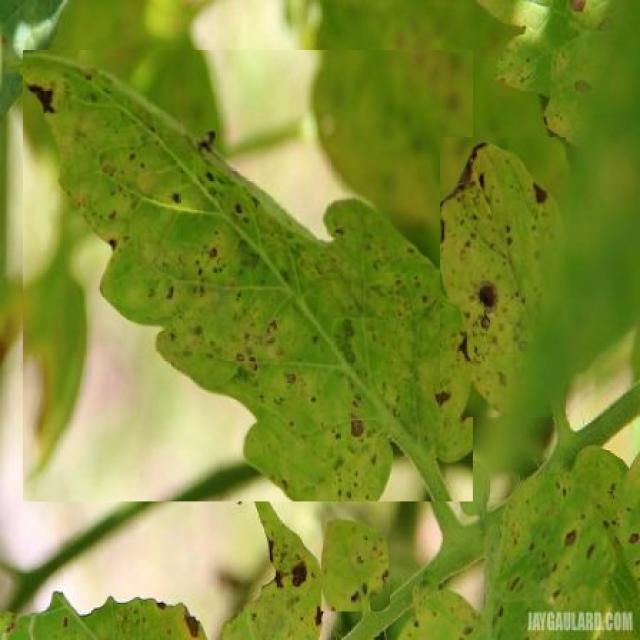Septoria: (23, 51, 473, 502), (440, 137, 566, 417), (322, 502, 391, 612)
